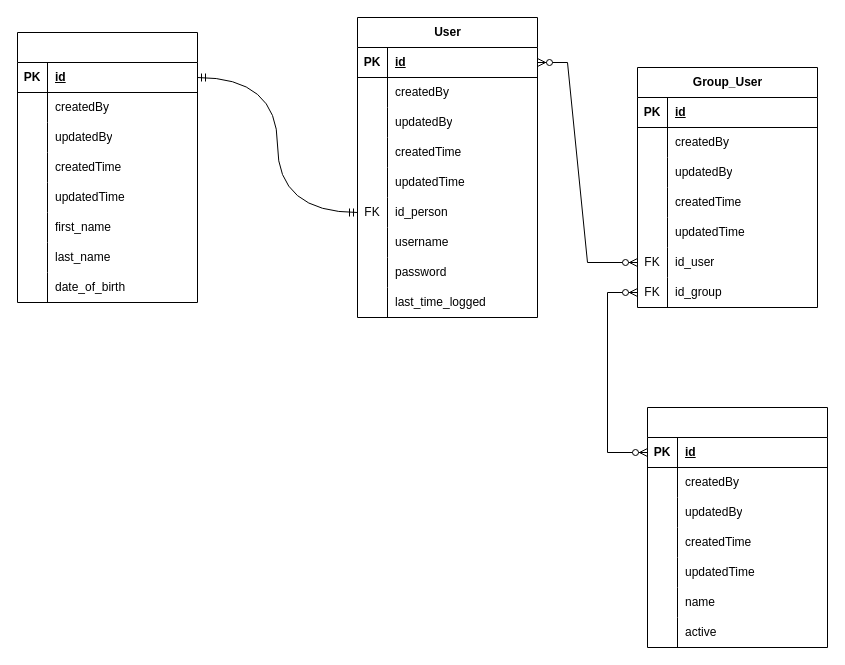
Some shapes in this 845 by 665 pixel diagram are drawn without their labels. The box of each missing label's shape, as (x1, y1, x2, y2) in pixels:
Group: (646, 406, 828, 648)
Person: (16, 32, 198, 302)
